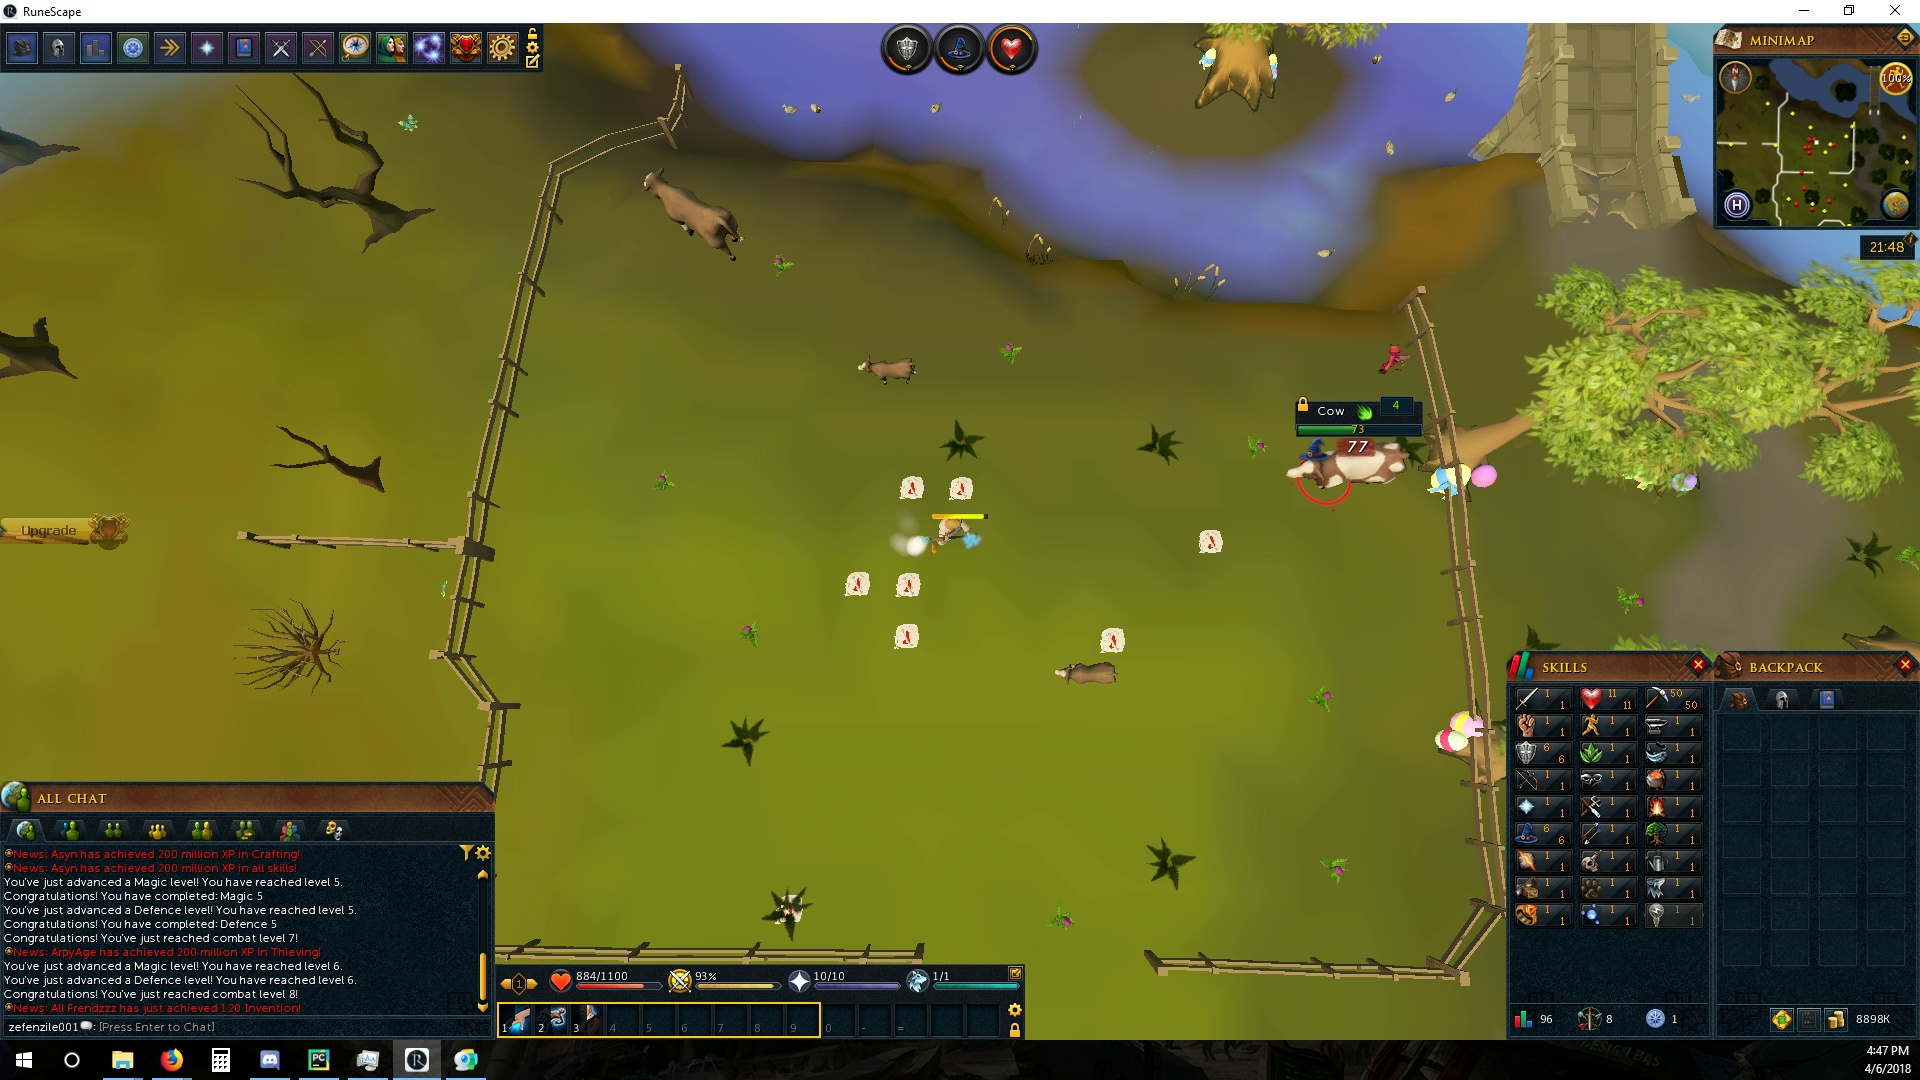calf: (1054, 655, 1121, 691), (853, 357, 923, 390)
cow: (642, 167, 746, 264), (1284, 439, 1411, 495)
cow_drop: (836, 568, 874, 596), (1193, 527, 1226, 559), (895, 469, 927, 502), (944, 475, 978, 502), (1097, 622, 1129, 651), (891, 622, 923, 650), (895, 566, 920, 597)
